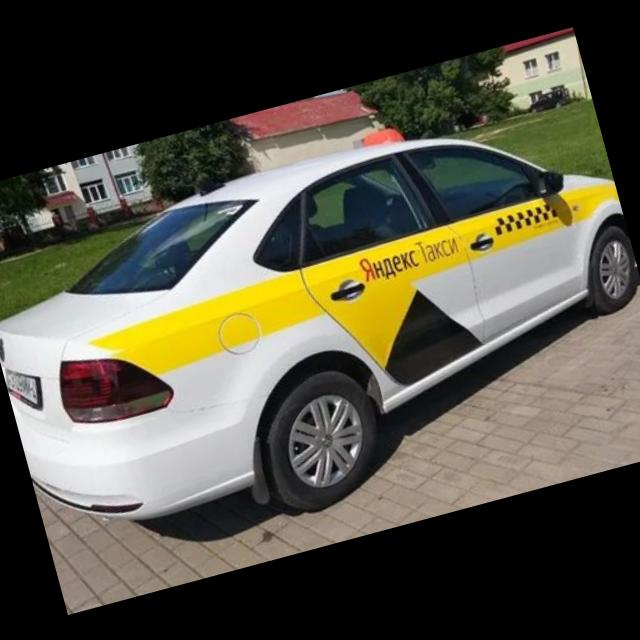taxi: (1, 72, 640, 580)
